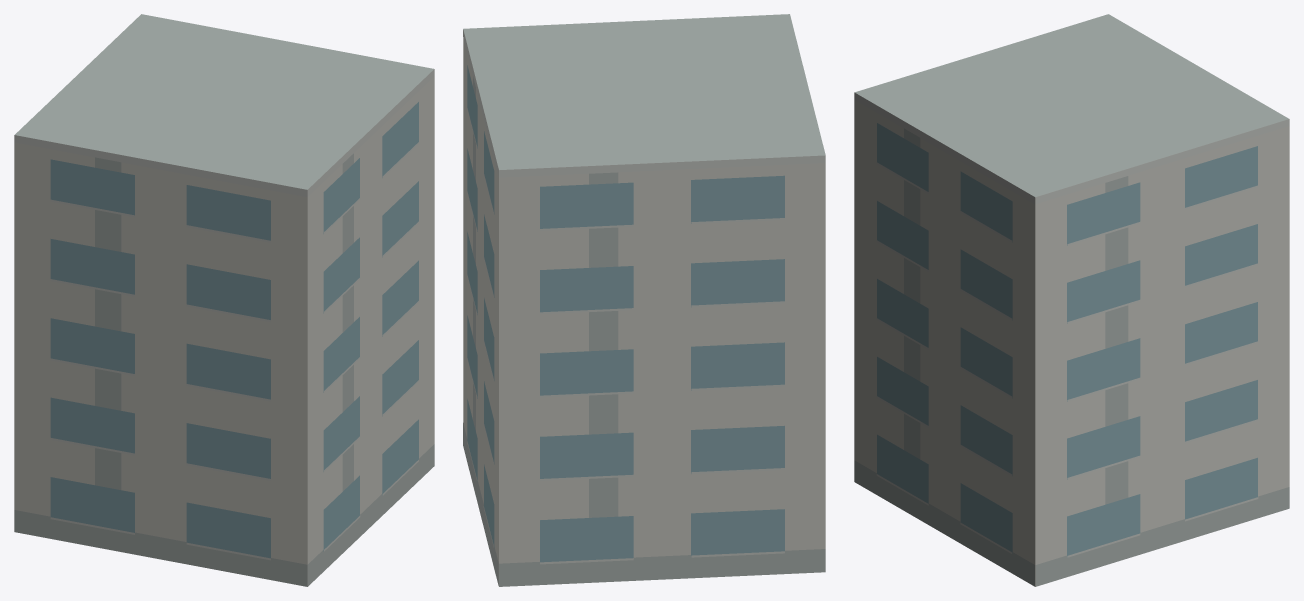
File: residential-6393fae7-8230-4e00-8b79-7e93328f8dd0.glb
3 renders of one model, left to right at view 1: azimuth 30°, elevation 25°; view 2: azimuth 150°, elevation 25°; view 3: azimuth 270°, elevation 25°, orthographic. The views are drawn at different scales.
Parts seen in each view (by area): view 1: residential-6393fae7-8230-4e00-8b79-7e93328f8dd0.tmp; view 2: residential-6393fae7-8230-4e00-8b79-7e93328f8dd0.tmp; view 3: residential-6393fae7-8230-4e00-8b79-7e93328f8dd0.tmp.
Part boxes in pixels (x1,y1,x2,y2): residential-6393fae7-8230-4e00-8b79-7e93328f8dd0.tmp: [14, 14, 434, 586]; residential-6393fae7-8230-4e00-8b79-7e93328f8dd0.tmp: [463, 14, 825, 586]; residential-6393fae7-8230-4e00-8b79-7e93328f8dd0.tmp: [854, 14, 1289, 586].
Bounding box in the file's own units: 13.33 × 13.2 × 13.37.
